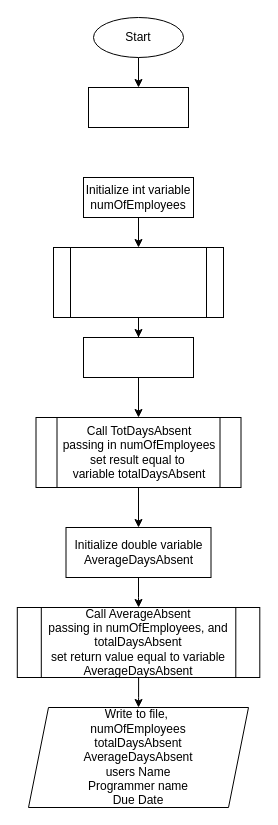
The diagram is 278 pixels wide and 825 high, and some of its shapes have lost their labels. Here are the shapes that lost their labels. From the top down, the centre of each, then its label:
point (138, 107): Create global ofstream txt file
point (138, 282): Call numOfEmployees, set result equal to variable numOfEmployees
point (138, 357): Initialize int variable totalDaysAbsent
